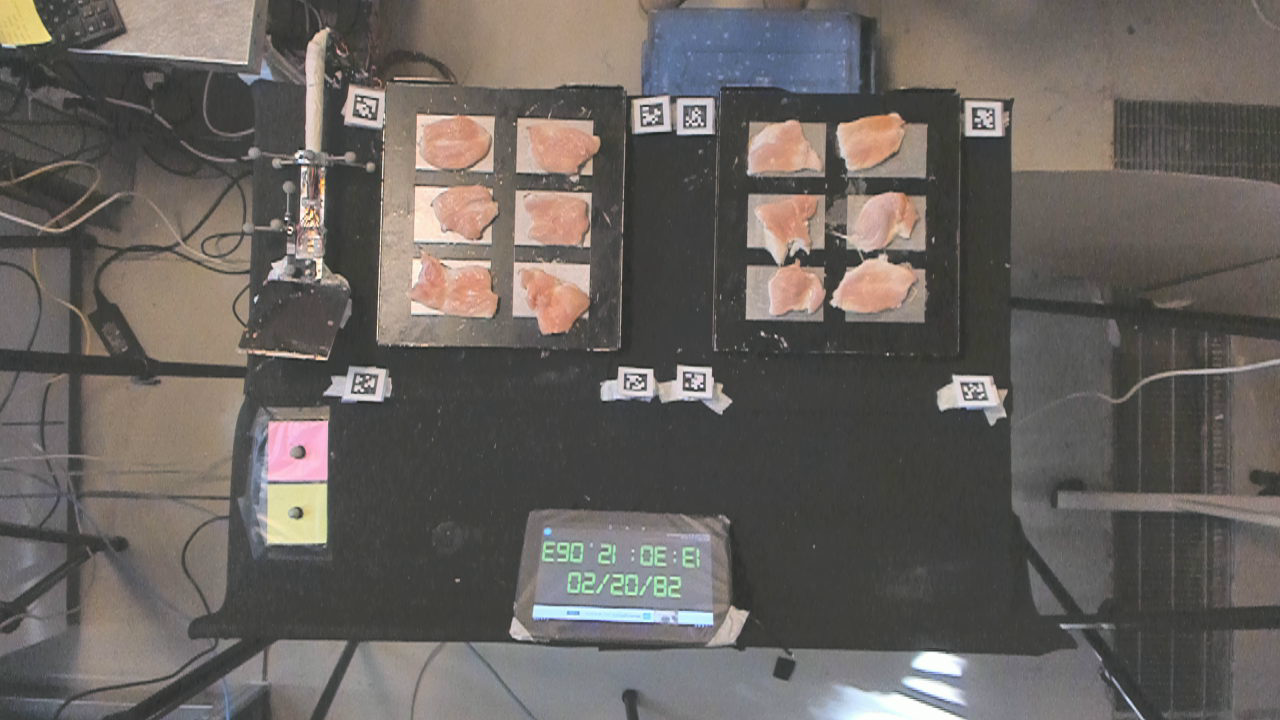chicken: (408, 254, 494, 316), (753, 195, 820, 265), (521, 268, 590, 334), (831, 259, 918, 311), (418, 111, 492, 170), (845, 193, 916, 254), (519, 192, 588, 249), (748, 121, 822, 173), (527, 125, 600, 176), (838, 115, 904, 170), (433, 181, 495, 237), (769, 266, 825, 314)
marker: (267, 421, 328, 480)
